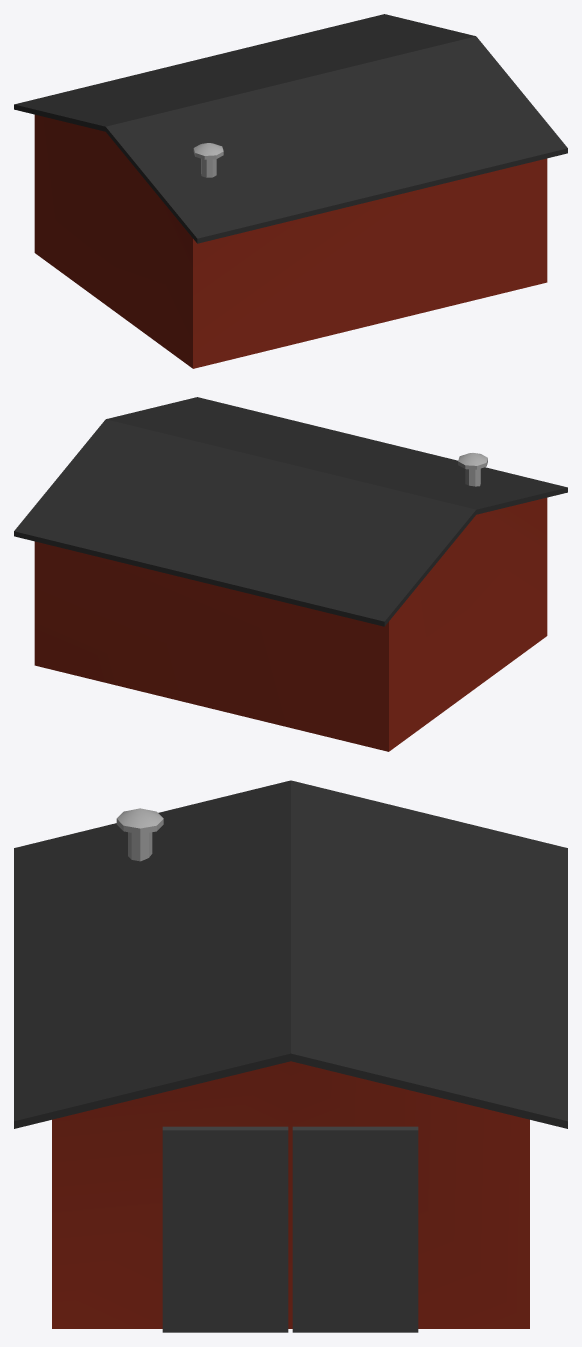
The model's file is Shed.fbx.
The picture shows the model from 3 angles, top to bottom: view 1: azimuth 30°, elevation 25°; view 2: azimuth 150°, elevation 25°; view 3: azimuth 270°, elevation 25°; orthographic projection. The views are drawn at different scales.
Parts seen in each view (by area): view 1: Shed; view 2: Shed; view 3: Shed.
Part boxes in pixels (x1,y1,x2,y2): Shed: (14, 14, 567, 368); Shed: (14, 397, 567, 751); Shed: (14, 780, 567, 1332).
Size of the model in its own units: 0.2687 by 0.1342 by 0.2303.
